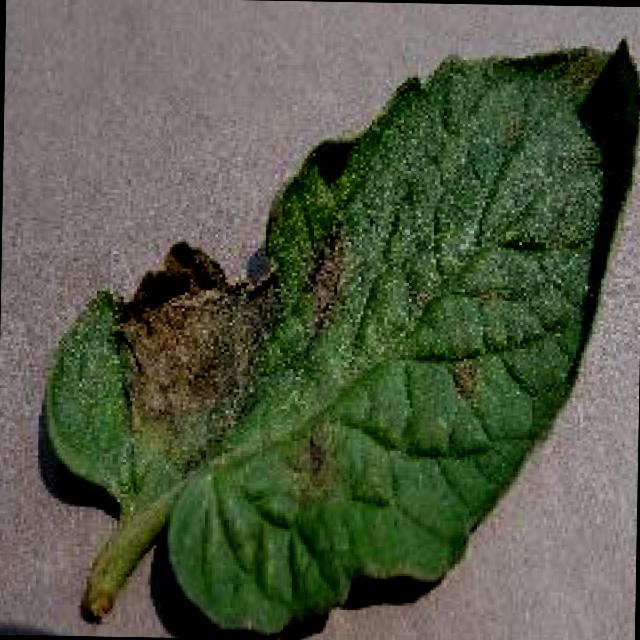leaf blight: (47, 48, 624, 633)
